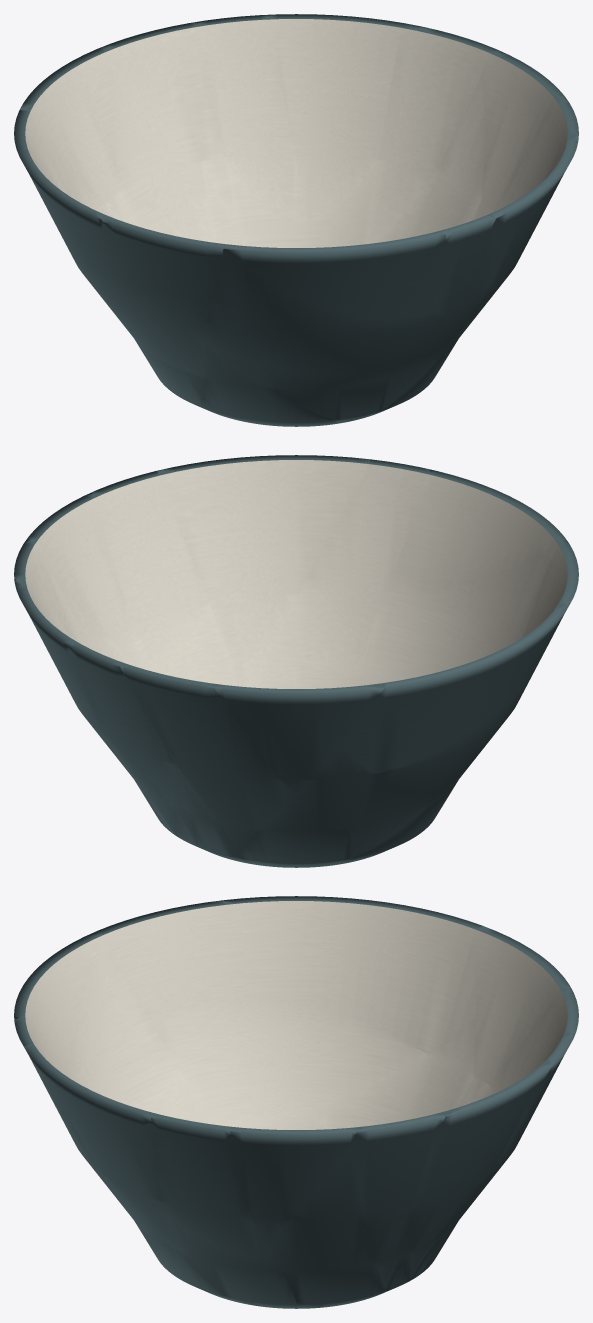
File: fragments.glb
3 renders of one model, top to bottom at view 1: azimuth 30°, elevation 25°; view 2: azimuth 150°, elevation 25°; view 3: azimuth 270°, elevation 25°, orthographic.
Visible parts, largest first — view 1: fragment-002-ivory, fragment-015-ivory, fragment-016-ivory, fragment-008-blue, fragment-014-ivory, fragment-007-blue, fragment-017-ivory, fragment-018-ivory, fragment-001-blue, fragment-020-blue, fragment-019-ivory, fragment-010-blue (+16 smaller); view 2: fragment-000-ivory, fragment-003-ivory, fragment-008-ivory, fragment-016-blue, fragment-009-blue, fragment-012-ivory, fragment-005-blue, fragment-007-ivory, fragment-017-blue, fragment-014-blue, fragment-018-ivory, fragment-001-blue (+14 smaller); view 3: fragment-009-ivory, fragment-001-ivory, fragment-010-ivory, fragment-019-blue, fragment-008-ivory, fragment-012-blue, fragment-015-blue, fragment-002-blue, fragment-000-blue, fragment-018-blue, fragment-017-ivory, fragment-005-ivory (+14 smaller).
Part boxes in pixels (bbox=[...]): fragment-002-ivory: bbox=[201, 28, 491, 247]; fragment-015-ivory: bbox=[270, 19, 402, 222]; fragment-016-ivory: bbox=[111, 25, 214, 242]; fragment-008-blue: bbox=[204, 252, 436, 374]; fragment-014-ivory: bbox=[204, 19, 307, 222]; fragment-007-blue: bbox=[223, 232, 445, 318]; fragment-017-ivory: bbox=[30, 50, 124, 221]; fragment-018-ivory: bbox=[474, 54, 553, 219]; fragment-001-blue: bbox=[68, 249, 210, 375]; fragment-020-blue: bbox=[208, 321, 471, 419]; fragment-019-ivory: bbox=[378, 75, 484, 242]; fragment-010-blue: bbox=[96, 211, 230, 300]; fragment-000-ivory: bbox=[159, 460, 368, 687]; fragment-003-ivory: bbox=[273, 464, 430, 671]; fragment-008-ivory: bbox=[361, 544, 556, 679]; fragment-016-blue: bbox=[120, 662, 295, 852]; fragment-009-blue: bbox=[350, 603, 570, 774]; fragment-012-ivory: bbox=[94, 476, 212, 671]; fragment-005-blue: bbox=[234, 746, 439, 864]; fragment-007-ivory: bbox=[392, 475, 556, 580]; fragment-017-blue: bbox=[215, 683, 384, 795]; fragment-014-blue: bbox=[68, 641, 176, 835]; fragment-018-ivory: bbox=[36, 498, 141, 668]; fragment-001-blue: bbox=[374, 671, 534, 794]; fragment-009-ivory: bbox=[239, 901, 474, 1054]; fragment-001-ivory: bbox=[146, 997, 426, 1124]; fragment-010-ivory: bbox=[102, 903, 244, 1012]; fragment-019-blue: bbox=[270, 1142, 389, 1307]; fragment-008-ivory: bbox=[70, 936, 180, 1111]; fragment-012-blue: bbox=[151, 1115, 273, 1256]; fragment-015-blue: bbox=[411, 1062, 553, 1274]; fragment-002-blue: bbox=[355, 1107, 458, 1290]; fragment-000-blue: bbox=[24, 1044, 185, 1258]; fragment-018-blue: bbox=[230, 1126, 361, 1248]; fragment-017-ivory: bbox=[467, 929, 560, 1103]; fragment-005-ivory: bbox=[310, 1016, 475, 1129].
Bounding box in the file's own units: 0.15 × 0.071 × 0.15.
Materials: 3 (3 with a texture image).
